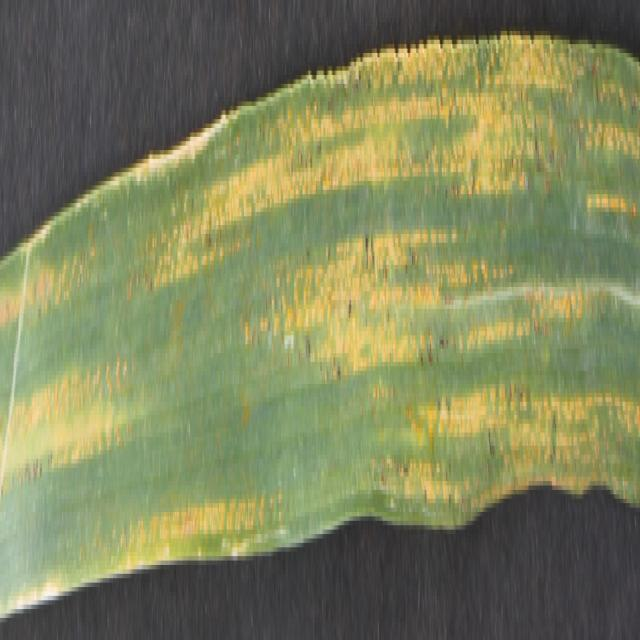leaf rust: (4, 40, 640, 574)
